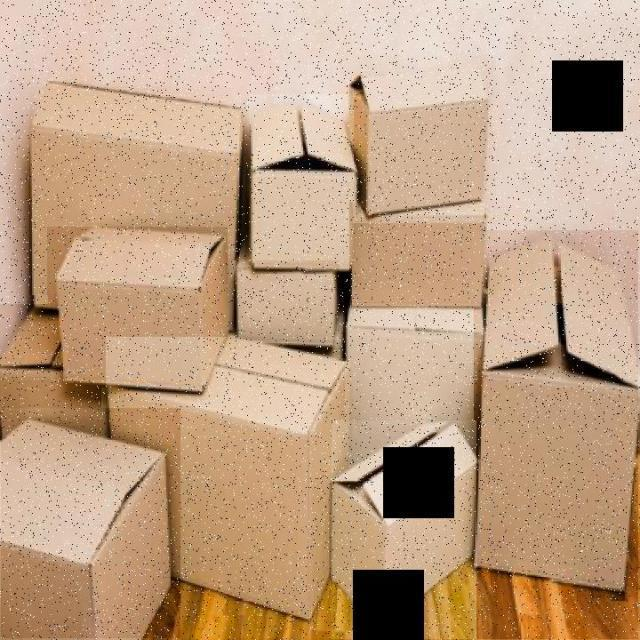box: (105, 336, 338, 638), (474, 230, 638, 639), (30, 86, 248, 295), (1, 408, 180, 638), (332, 420, 476, 640), (48, 226, 228, 388), (354, 55, 496, 223), (345, 308, 487, 452), (248, 94, 356, 272), (350, 202, 488, 314), (0, 304, 101, 431), (228, 260, 339, 354)
